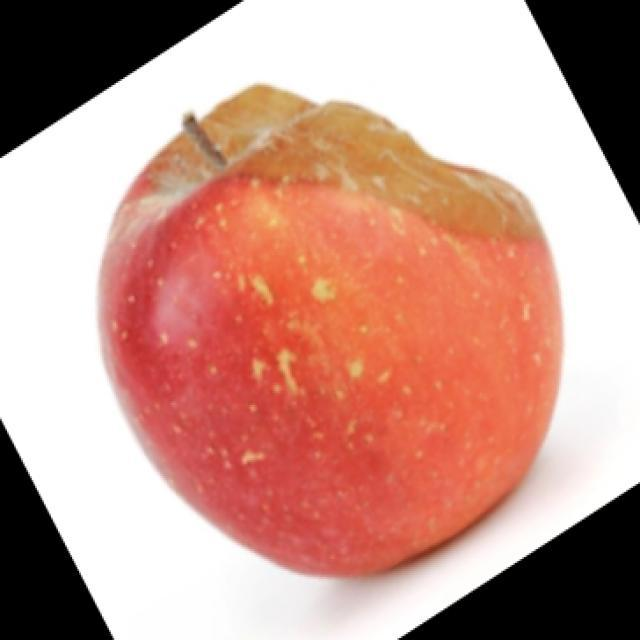Rotten: (87, 81, 575, 566)
